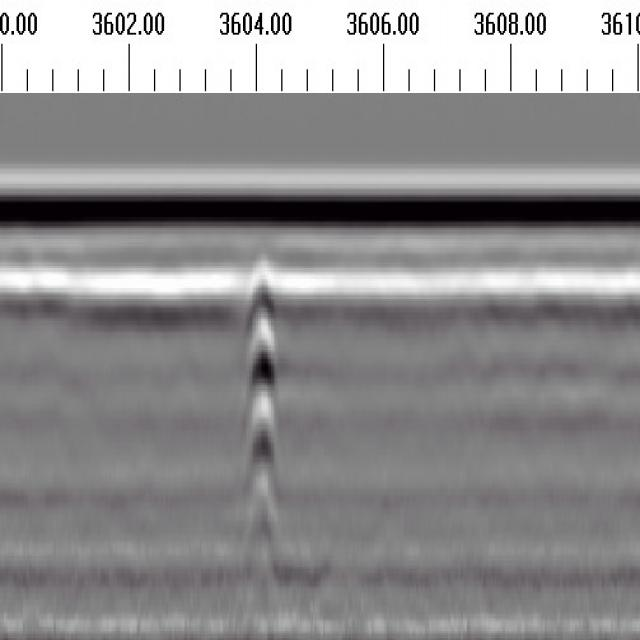crack: (241, 258, 286, 574)
